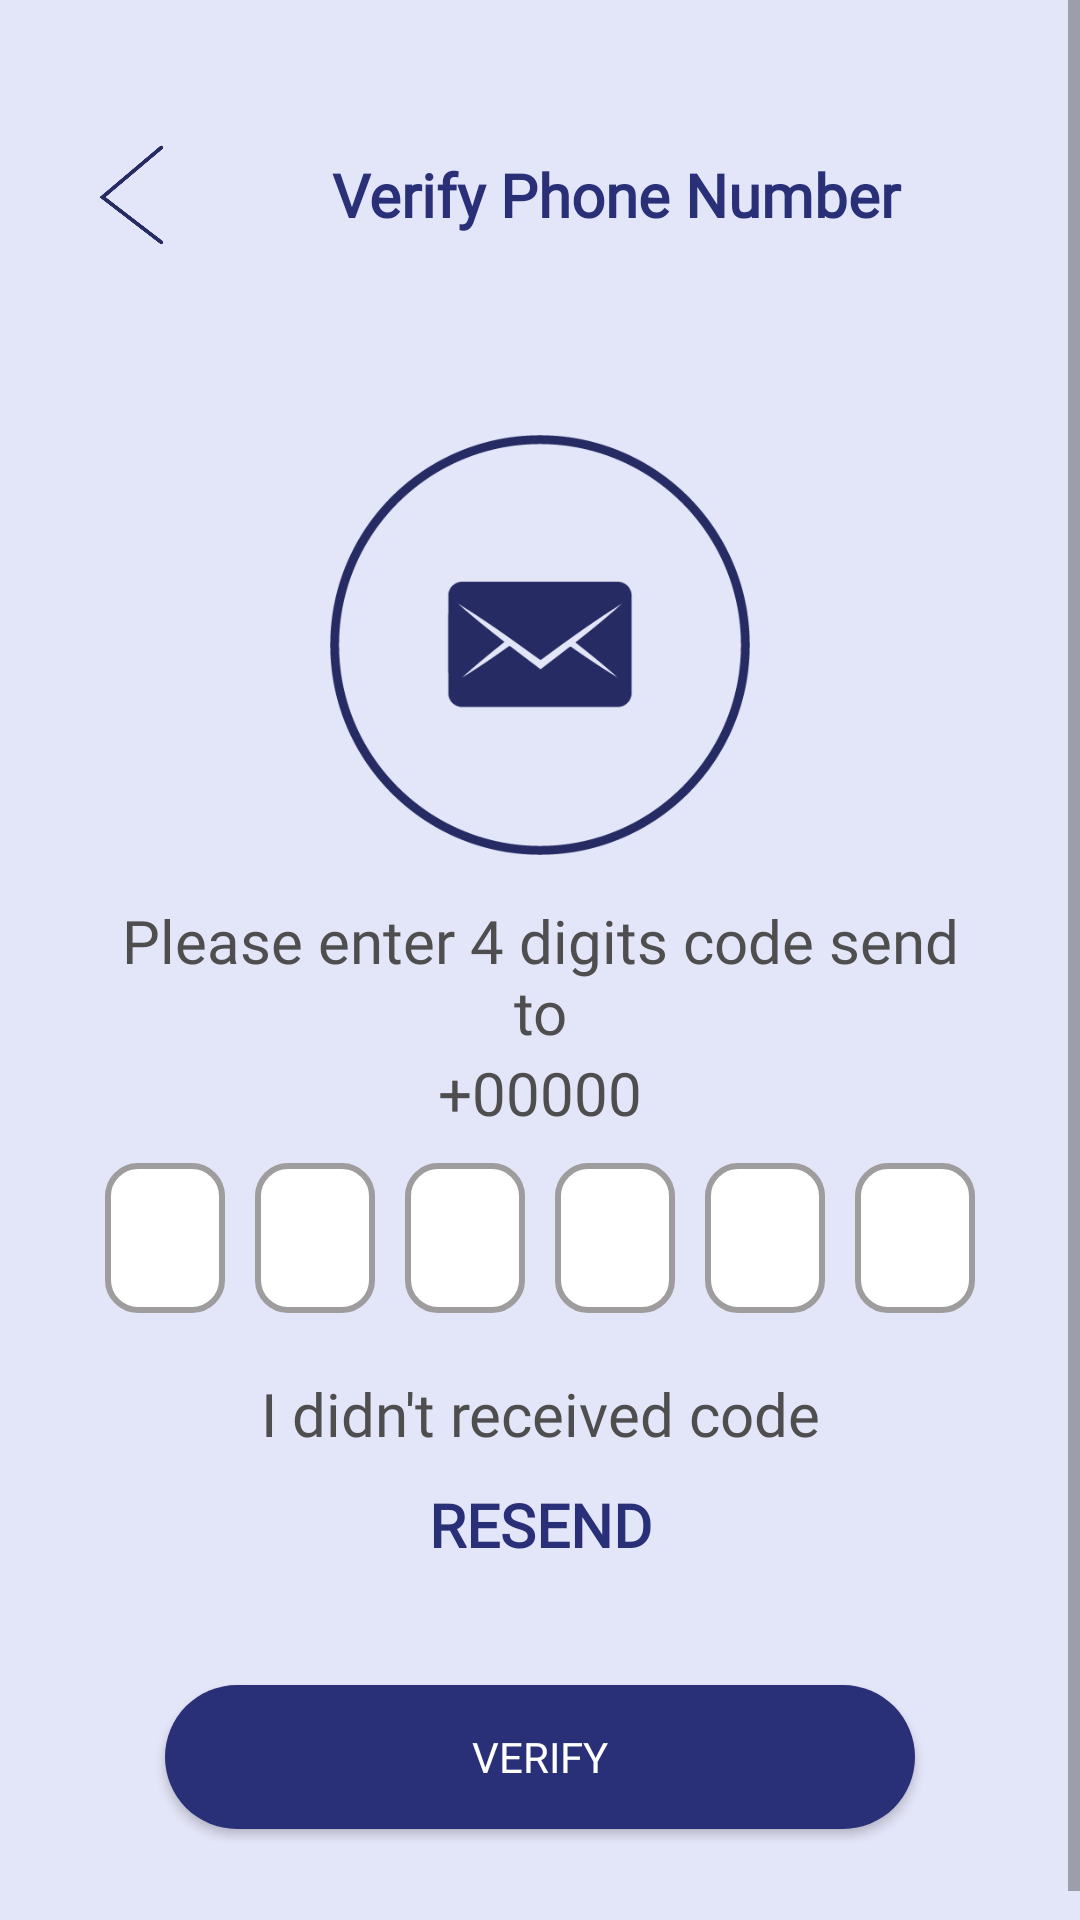

Screen size 1080 x 1920. Icon name, then its box in pixels as (x1, y1, x2, y2):
back: (100, 146, 163, 244)
